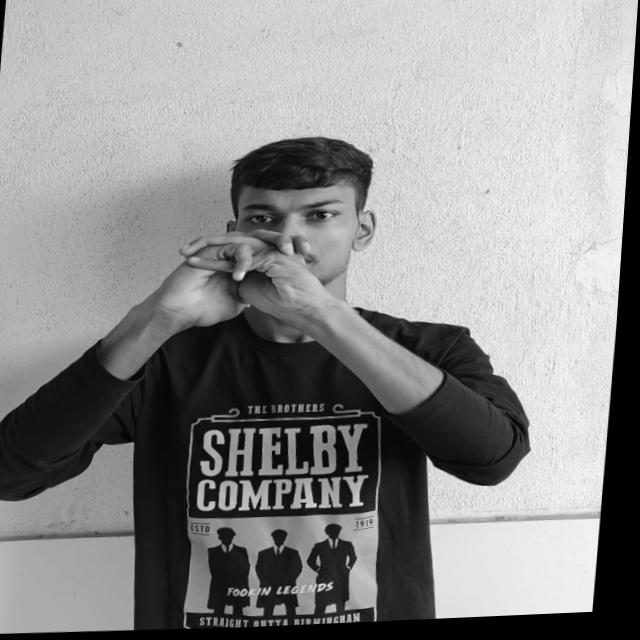Sorry: (135, 228, 338, 336)
